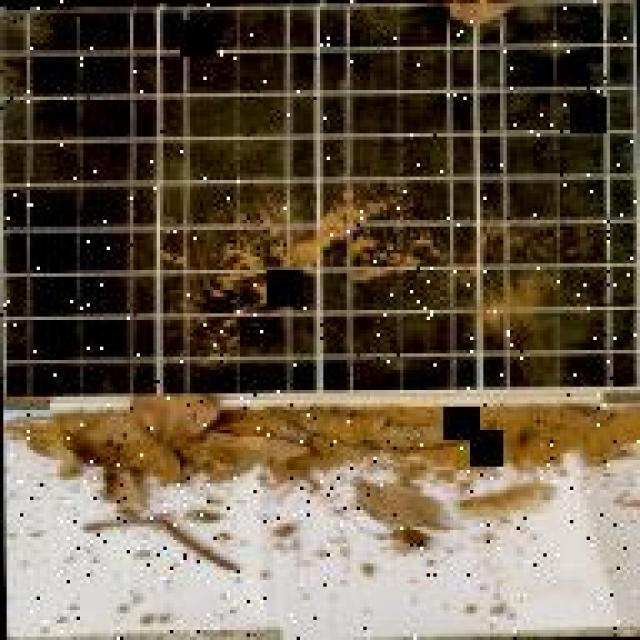dust-solar-panel: (2, 0, 640, 394)
